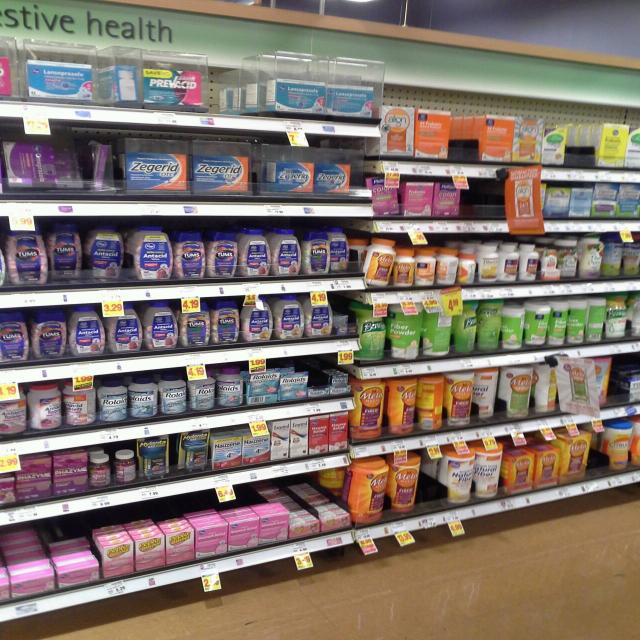empty: (413, 445, 450, 514), (460, 175, 505, 220), (563, 127, 597, 173), (452, 115, 482, 162), (612, 356, 634, 412), (584, 423, 605, 476)
